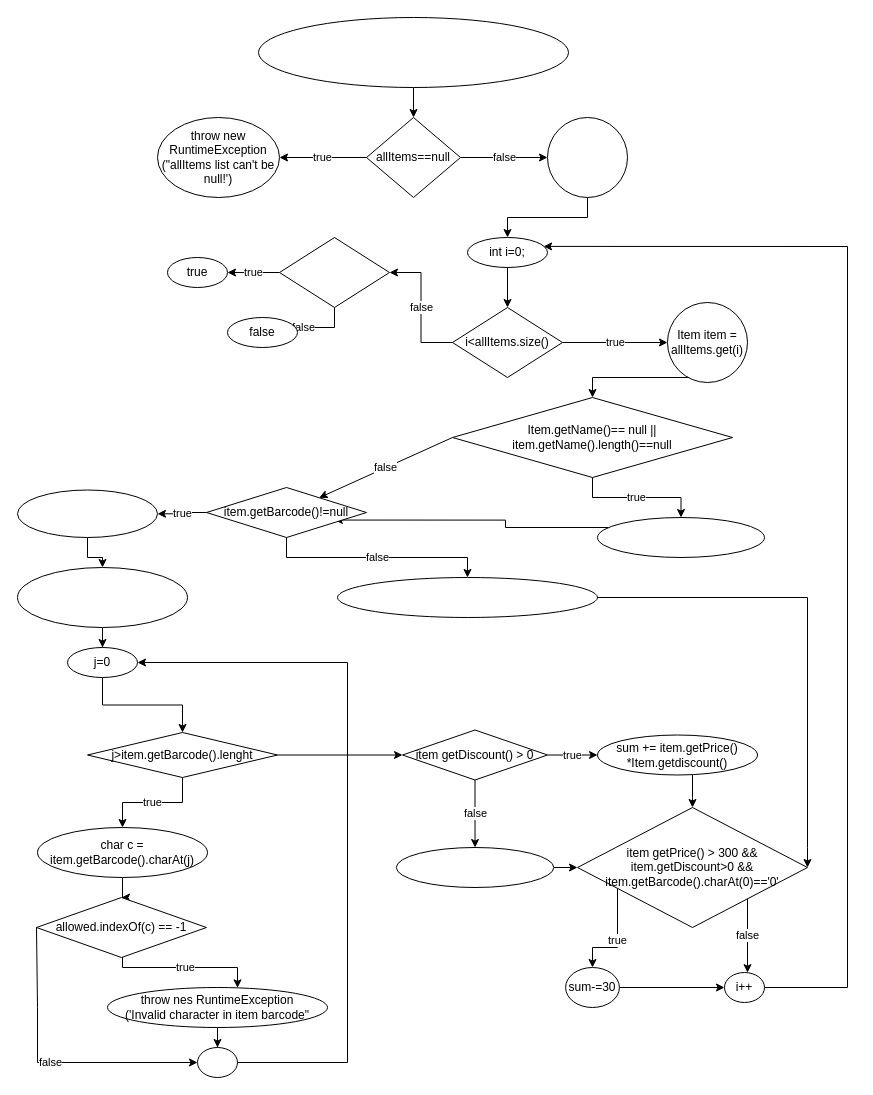
Image size: 873x1095. Some labels were removed from this diagram. Each missing label, with the centre of its shape:
char chars[] = item getBarcode().toCharArray(): the point at 102,597
float sum = 0: the point at 587,157
item.setName("Unknown"): the point at 680,537
j++: the point at 217,1062
public static boolean checkCart(List <Item> allItems, int payment): the point at 413,52
String allowed = "0123456789": the point at 87,513
sum+= item.getPrice(): the point at 474,867
sum<=payment: the point at 334,272
throw new RuntimeException("No Barcode"): the point at 467,597
